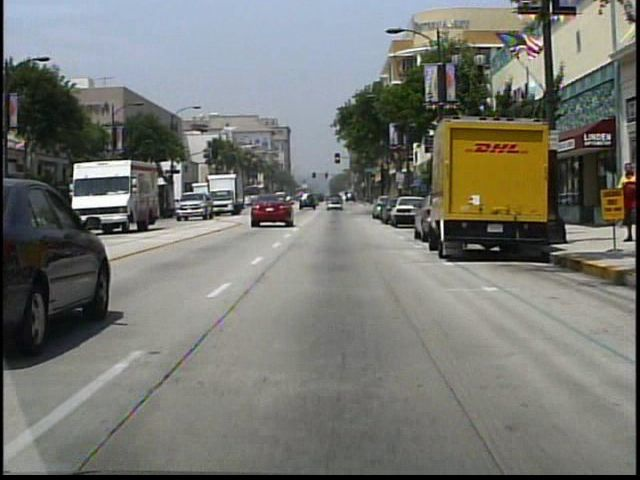person: (610, 163, 637, 244)
